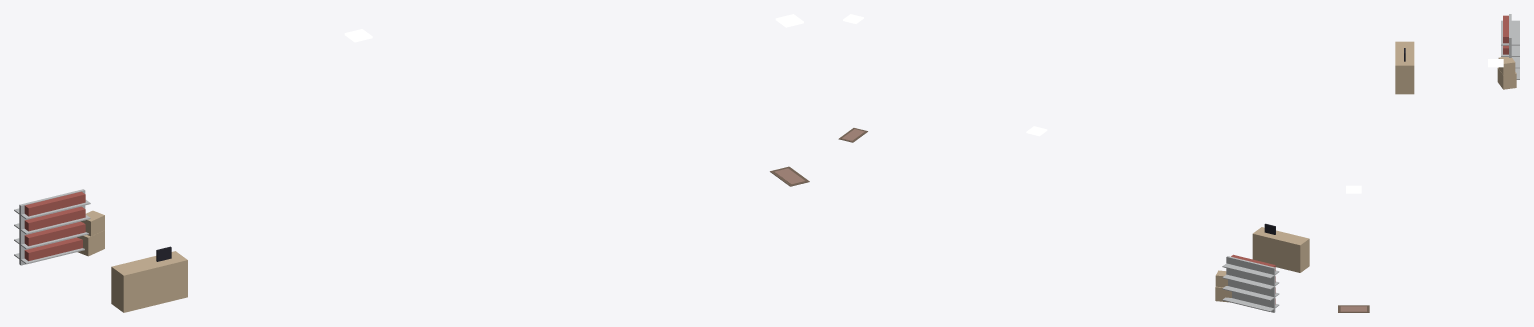
File: fine-s0.glb
3 renders of one model, left to right at view 1: azimuth 30°, elevation 25°; view 2: azimuth 150°, elevation 25°; view 3: azimuth 270°, elevation 25°, orthographic. The views are drawn at different scales.
Visible parts, largest first — view 1: shelving.000, shop-counter.000, cardboard-box.000; view 2: shelving.000, shop-counter.000, cardboard-box.000; view 3: shop-counter.000, shelving.000, cardboard-box.000, soft-s0, ceiling-lamp.000, ceiling-lamp.001.
Part boxes in pixels (x1,y1,x2,y2): shelving.000: (14,189,90,265); shop-counter.000: (111,246,187,312); cardboard-box.000: (77,210,104,256); shelving.000: (1222,254,1279,312); shop-counter.000: (1252,223,1309,272); cardboard-box.000: (1215,270,1231,302); shop-counter.000: (1395,41,1414,94); shelving.000: (1501,14,1519,79); cardboard-box.000: (1497,57,1516,89); soft-s0: (1338,305,1369,312); ceiling-lamp.000: (1346,185,1361,193); ceiling-lamp.001: (1488,59,1503,67).
Size of the model in its own units: 19.01 by 4.21 by 5.76.
